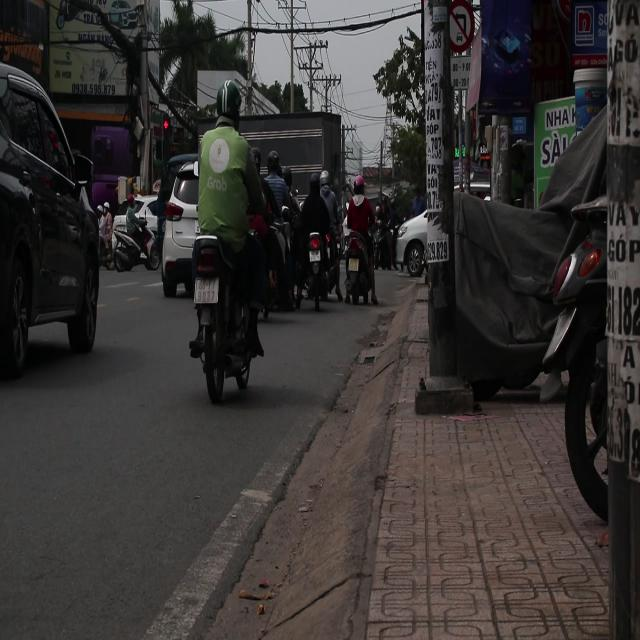car: (0, 46, 100, 382), (156, 159, 198, 296), (396, 211, 434, 279)
motorbike: (188, 212, 270, 409), (338, 218, 382, 308), (291, 205, 329, 308), (111, 212, 158, 281)
